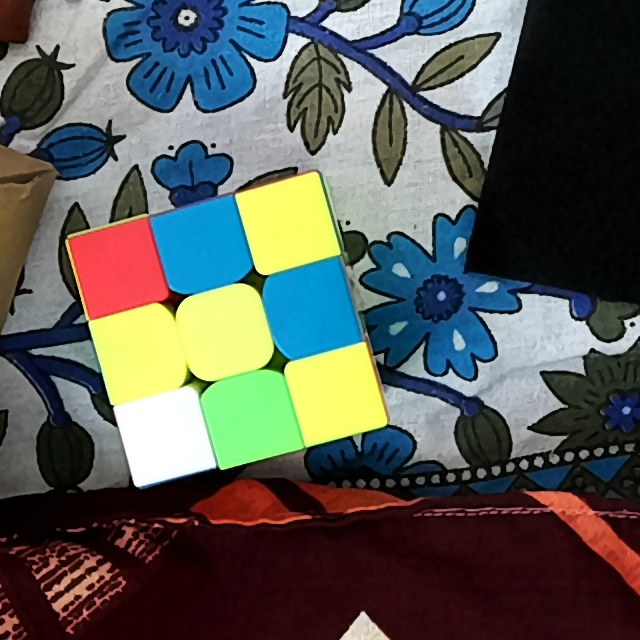tile: (132, 404, 197, 470), (282, 274, 345, 340), (194, 300, 259, 363), (303, 362, 369, 424), (255, 195, 322, 256), (85, 234, 148, 298), (170, 215, 235, 277), (109, 319, 171, 383), (223, 386, 285, 448)
